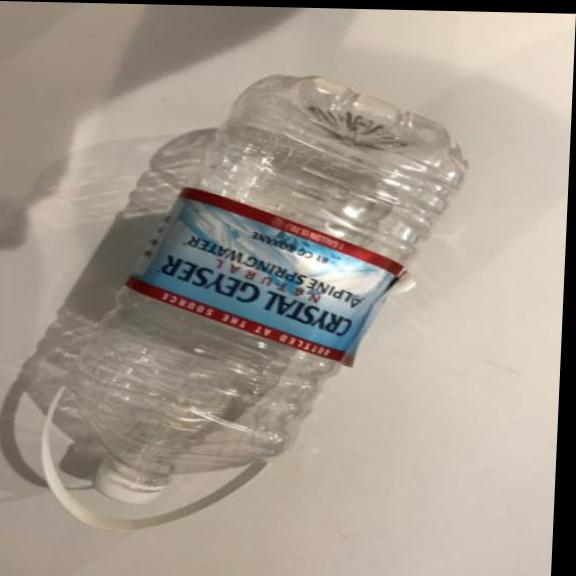Plastik: (27, 62, 478, 544)
